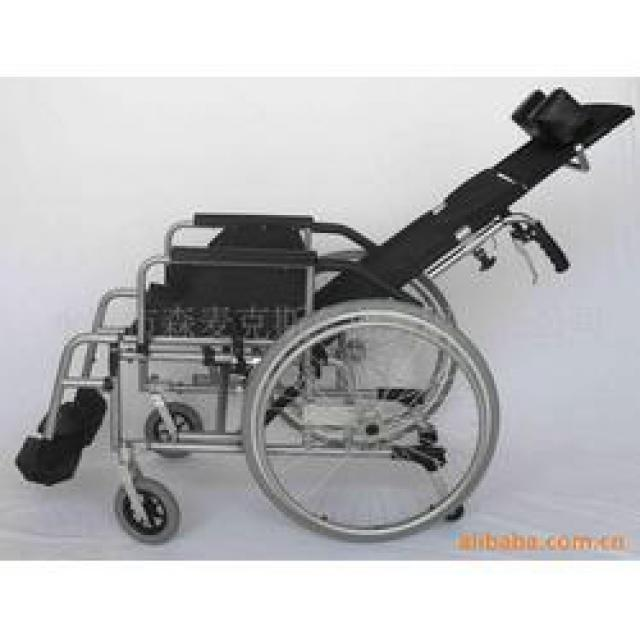wheelchair: (8, 84, 635, 556)
